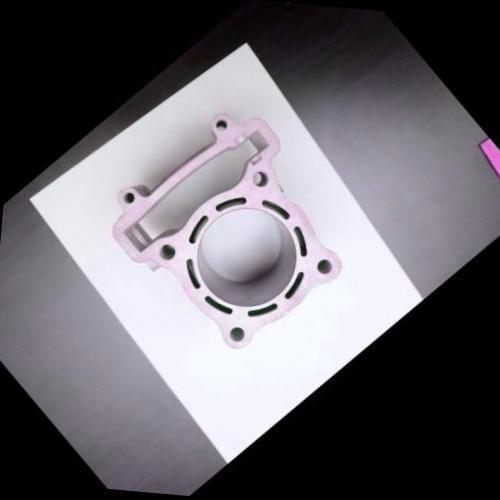hole: (244, 163, 274, 192), (152, 236, 179, 264), (222, 320, 247, 346), (309, 254, 334, 280), (210, 114, 230, 134), (116, 187, 136, 207)
